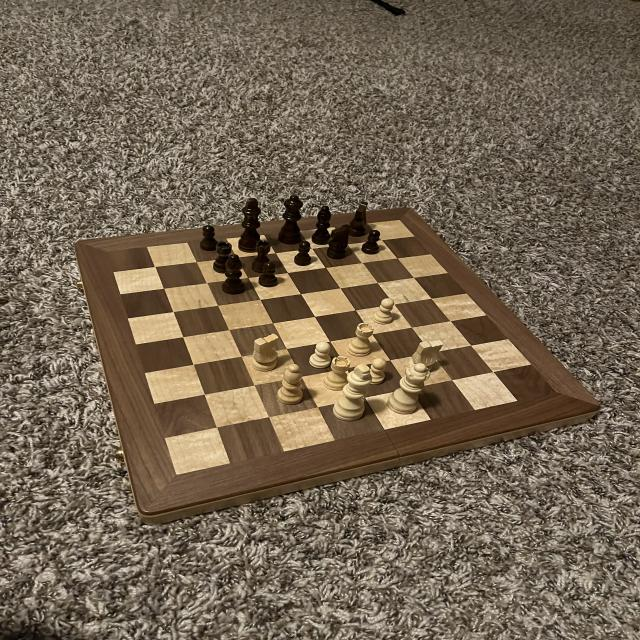bishop: (220, 251, 246, 295), (311, 204, 333, 247)
black-bishop: (237, 197, 268, 253)
black-king: (346, 200, 372, 237), (328, 221, 351, 262)
black-knight: (197, 224, 221, 253), (359, 228, 383, 255), (292, 239, 314, 267), (257, 262, 277, 288)
black-pawn: (277, 193, 306, 247)
black-queen: (250, 238, 275, 273), (212, 240, 235, 272)
black-rook: (275, 364, 306, 408)
white-bishop: (324, 361, 372, 422)
white-king: (400, 338, 445, 381), (248, 331, 282, 372)
white-knight: (306, 340, 332, 370), (373, 298, 396, 326), (367, 354, 388, 384)
white-pawn: (387, 363, 431, 415)
white-queen: (344, 320, 378, 359), (319, 354, 351, 390)
